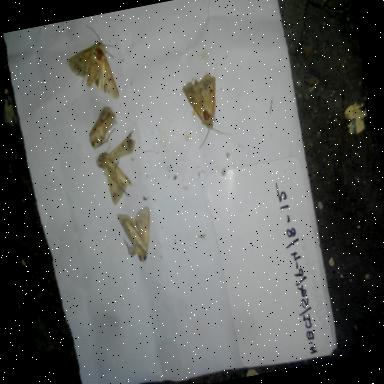abw: (58, 16, 130, 111), (88, 128, 152, 210), (181, 69, 237, 155), (112, 202, 164, 268), (78, 100, 126, 156)
